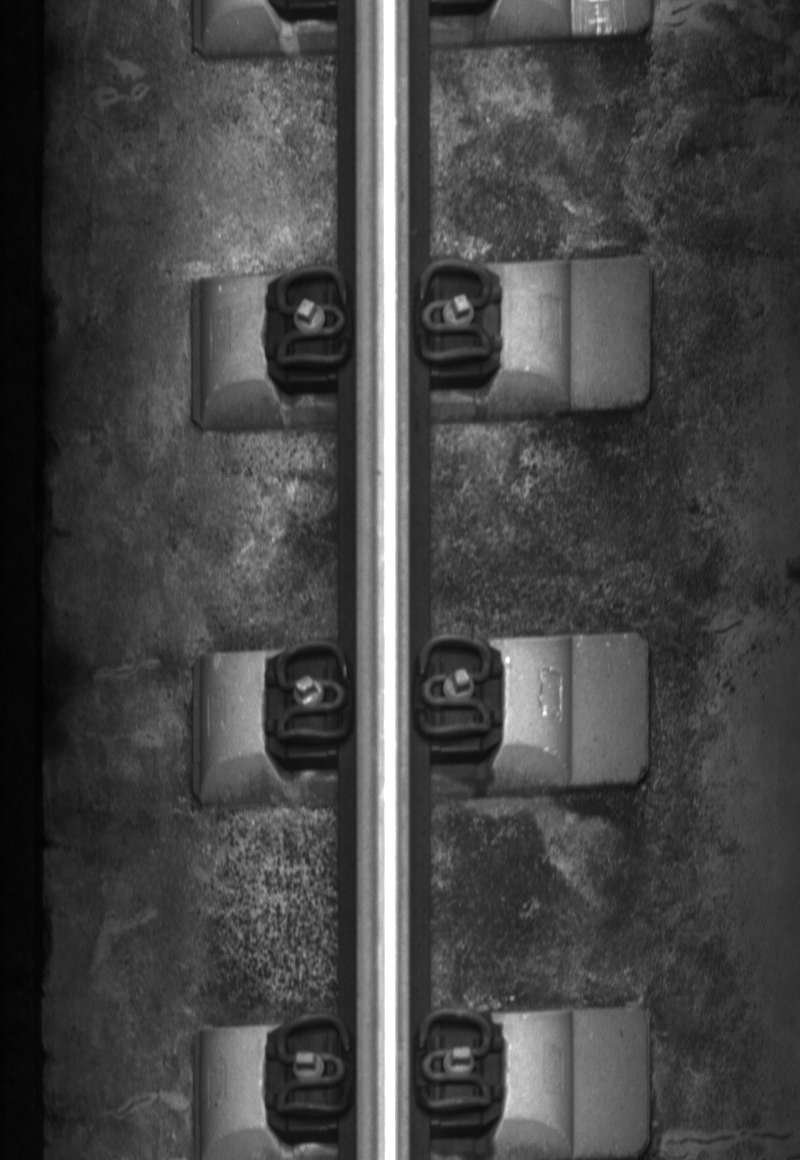l_faster: (269, 1008, 355, 1126), (271, 637, 354, 753), (270, 260, 353, 374)
r_faster: (411, 628, 497, 744), (413, 1003, 496, 1121), (413, 256, 496, 367)
